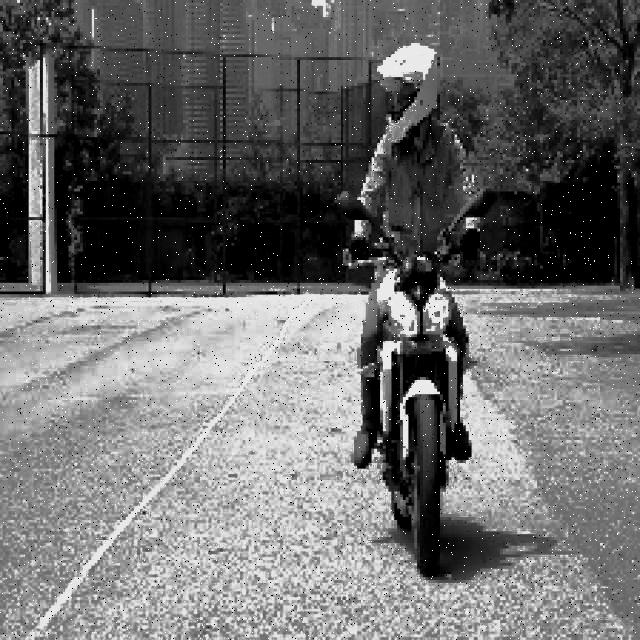Bike: (357, 225, 477, 576)
